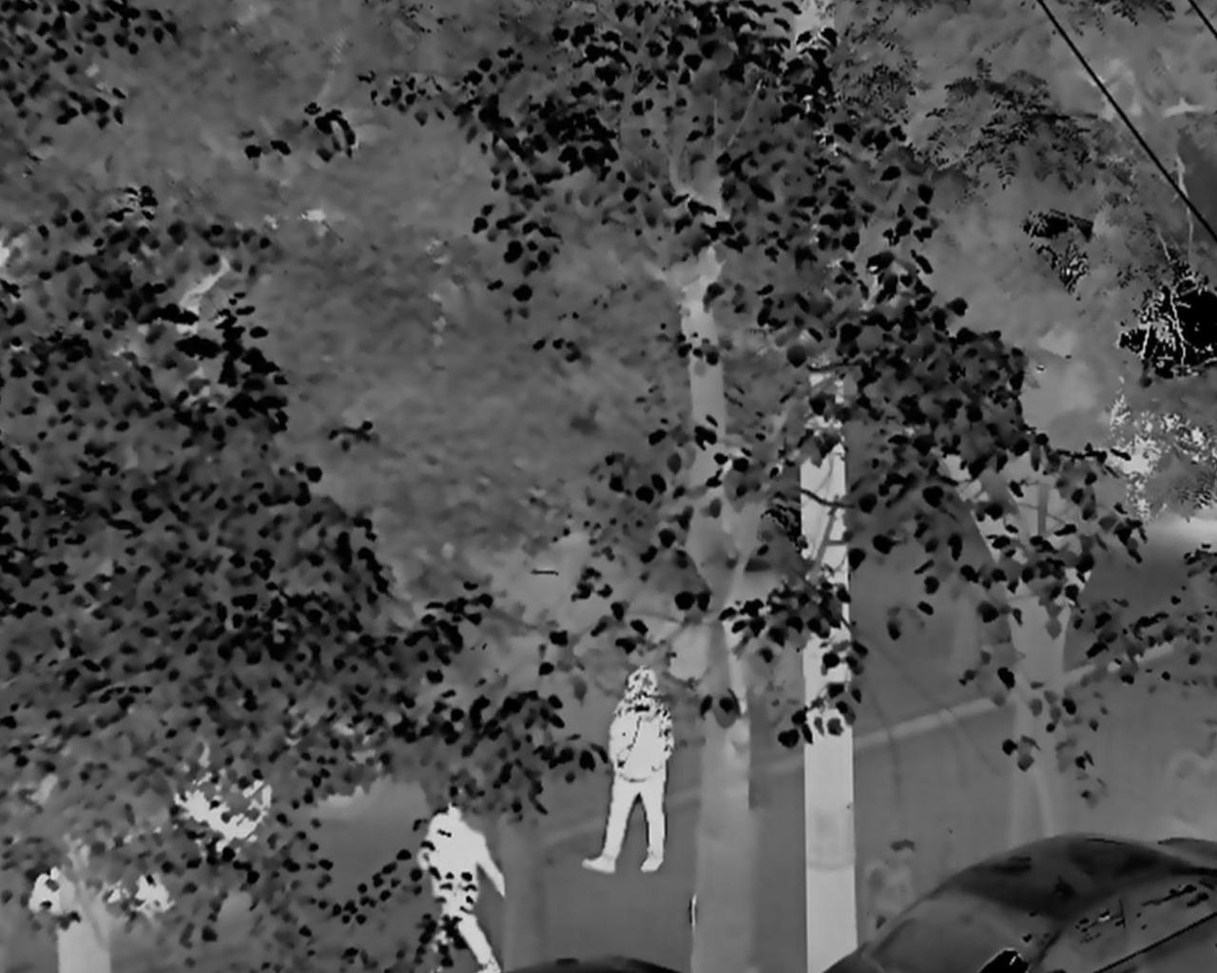person: (586, 663, 674, 877), (414, 796, 509, 973)
